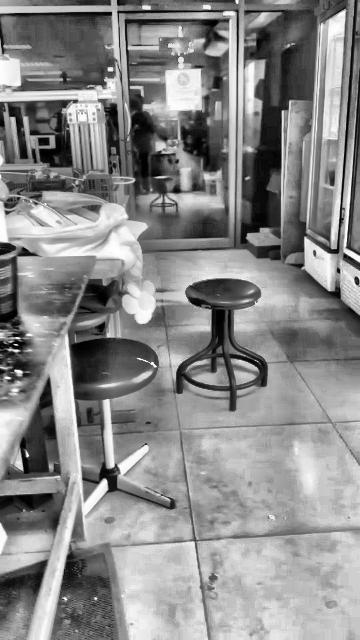pot: (0, 241, 19, 321)
